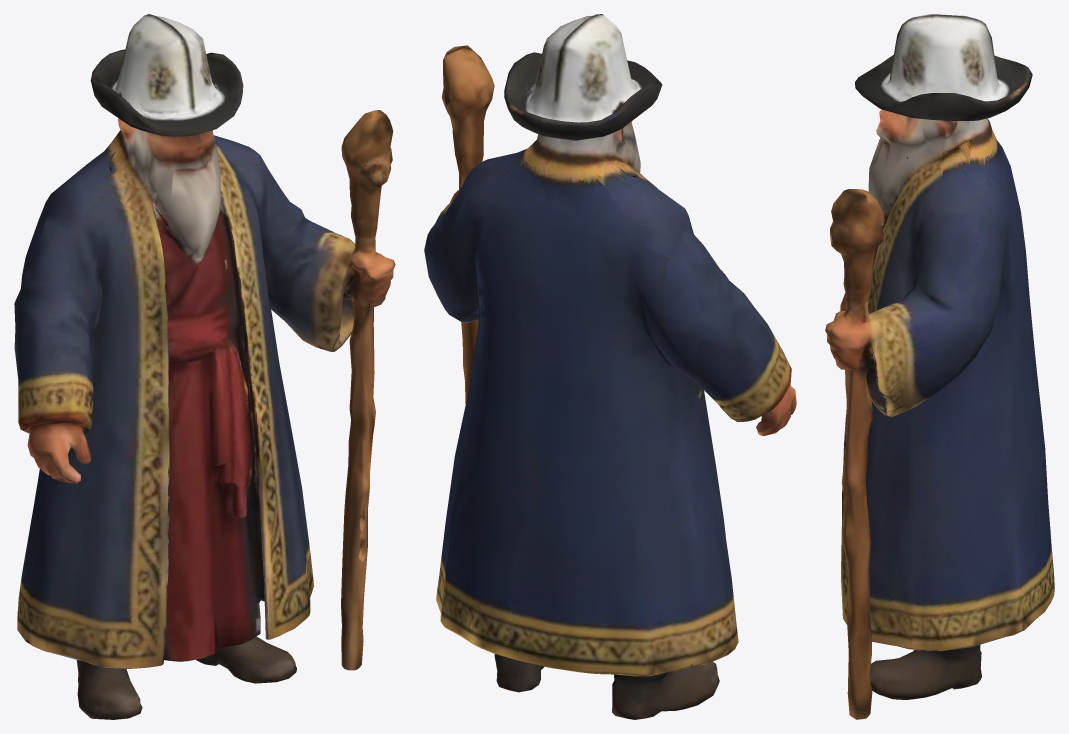
File: elder.gen.glb
The picture shows the model from 3 angles, left to right: view 1: azimuth 30°, elevation 25°; view 2: azimuth 150°, elevation 25°; view 3: azimuth 270°, elevation 25°; orthographic projection. The views are drawn at different scales.
Parts seen in each view (by area): view 1: elder.raw; view 2: elder.raw; view 3: elder.raw.
Part boxes in pixels (<box>): elder.raw: <box>14,14,395,719</box>; elder.raw: <box>424,14,796,719</box>; elder.raw: <box>825,14,1054,719</box>.
Size of the model in its own units: 1.1 by 1.95 by 0.6359.
Materials: 1 (1 with a texture image).
